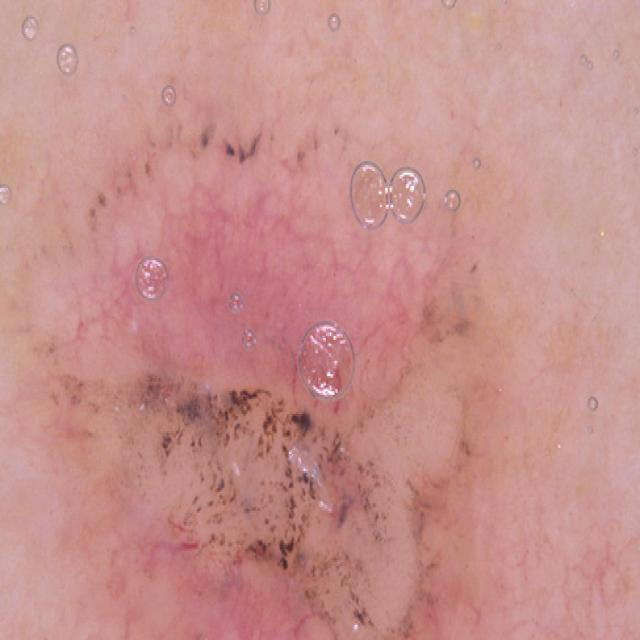Carcinoma: (79, 99, 532, 640)
